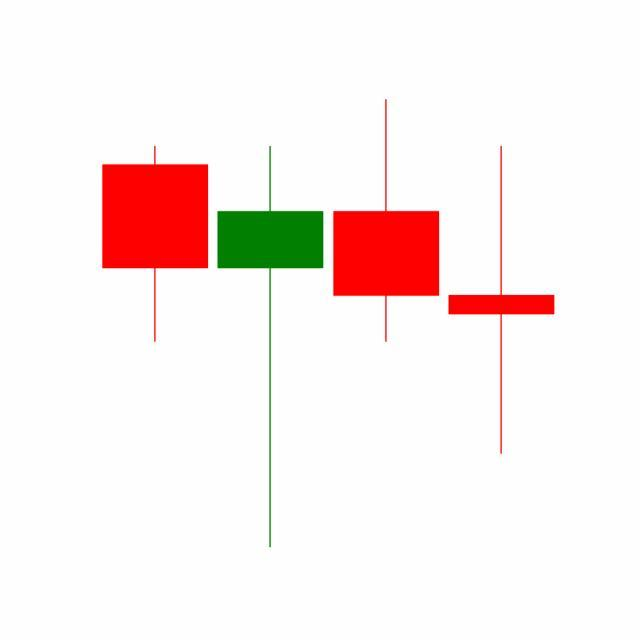Spinning Top: (444, 142, 560, 458)
